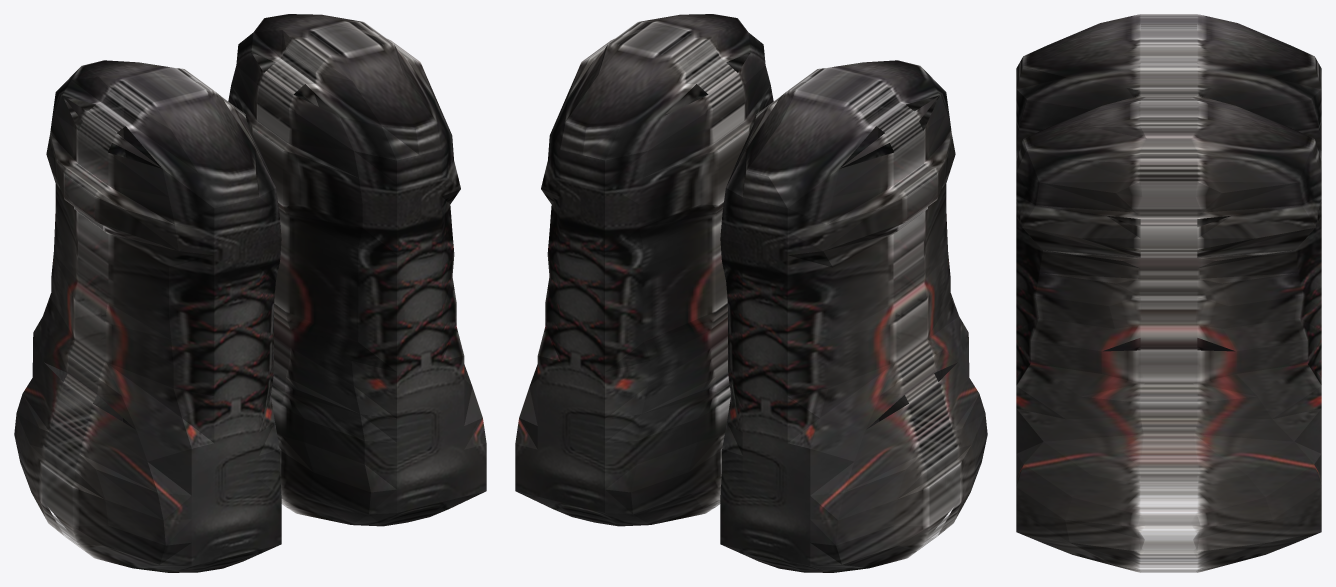
The model's file is sena-nomad-sport-boot-141.glb.
3 views of the same model, side by side, from view 1: azimuth 30°, elevation 25°; view 2: azimuth 150°, elevation 25°; view 3: azimuth 270°, elevation 25° (orthographic). The views are drawn at different scales.
Visible parts, largest first — view 1: world; view 2: world; view 3: world.
Part boxes in pixels (box(x1,y1,x2,y2)): world: box(14, 14, 486, 572); world: box(515, 14, 987, 572); world: box(1016, 14, 1321, 572).
Size of the model in its own units: 0.8818 by 1 by 0.62.
1 material, 1 textured.
